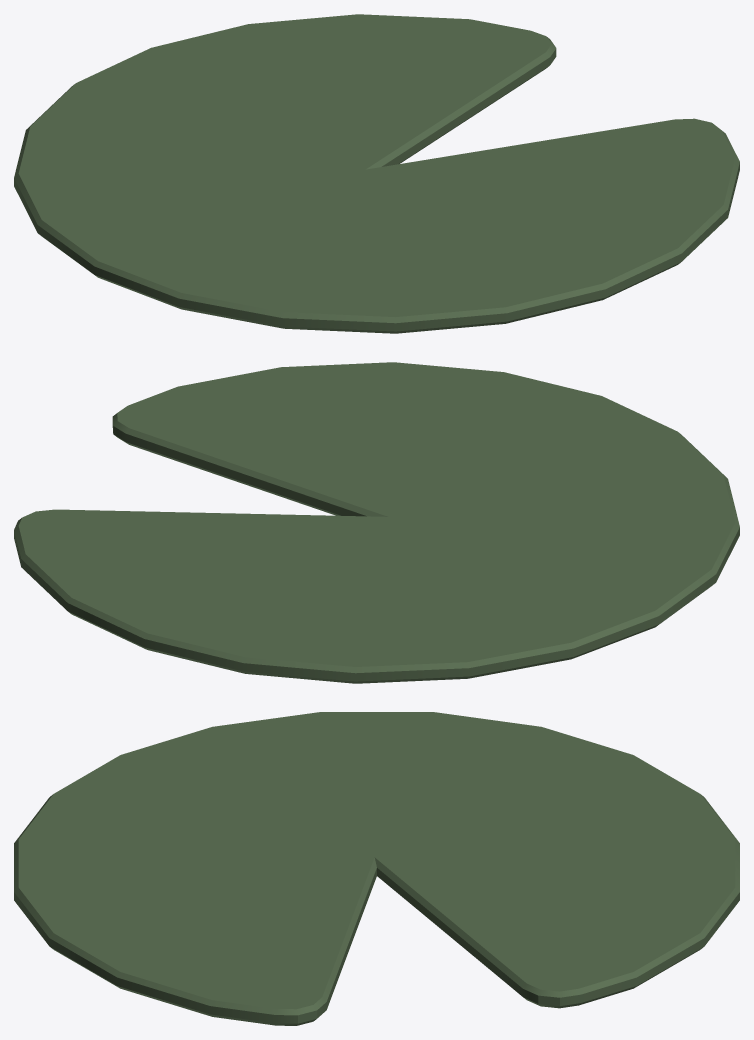
File: lilyfix2.fbx
3 views of the same model, one above another, from view 1: azimuth 30°, elevation 25°; view 2: azimuth 150°, elevation 25°; view 3: azimuth 270°, elevation 25° (orthographic).
Visible parts, largest first — view 1: pDisc2; view 2: pDisc2; view 3: pDisc2.
Part boxes in pixels (bbox=[...]): pDisc2: bbox=[14, 14, 739, 333]; pDisc2: bbox=[14, 362, 739, 683]; pDisc2: bbox=[14, 712, 739, 1025].
Bounding box in the file's own units: 68.71 × 1.78 × 70.02.
